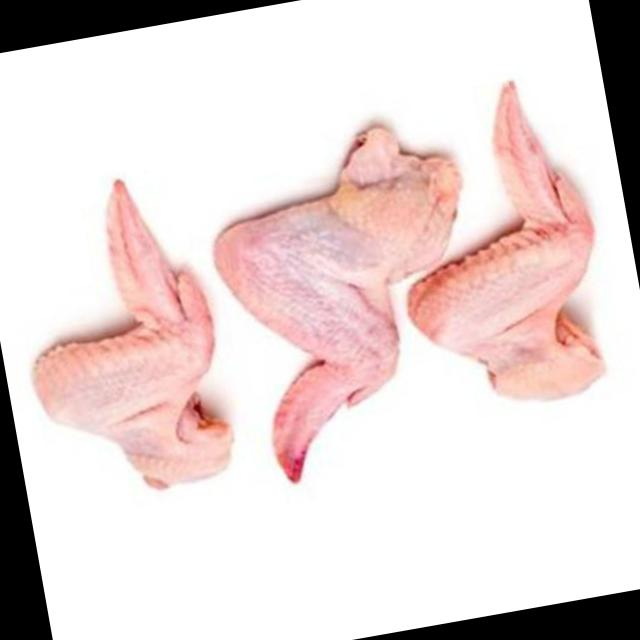chicken: (192, 109, 506, 488), (372, 73, 615, 421), (2, 165, 240, 508)
